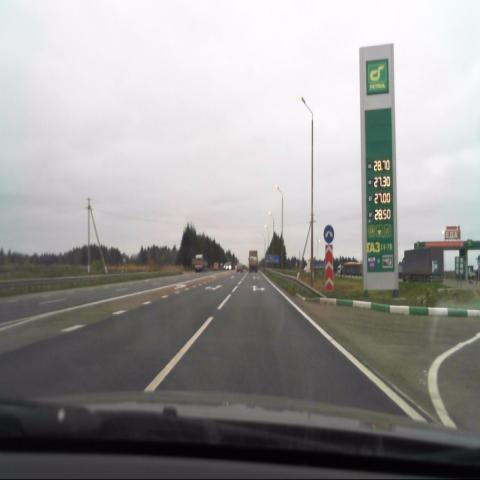4_2_3: (322, 224, 335, 243)
